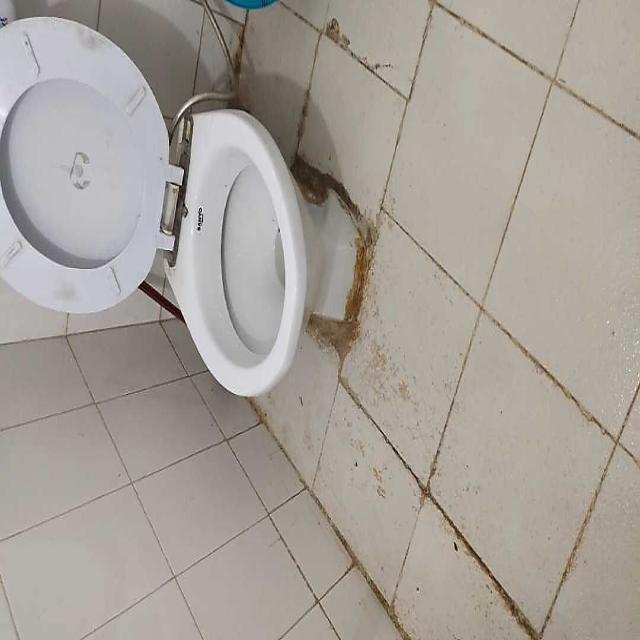dirty_floor: (1, 1, 637, 637), (226, 7, 384, 377), (287, 150, 380, 374)
